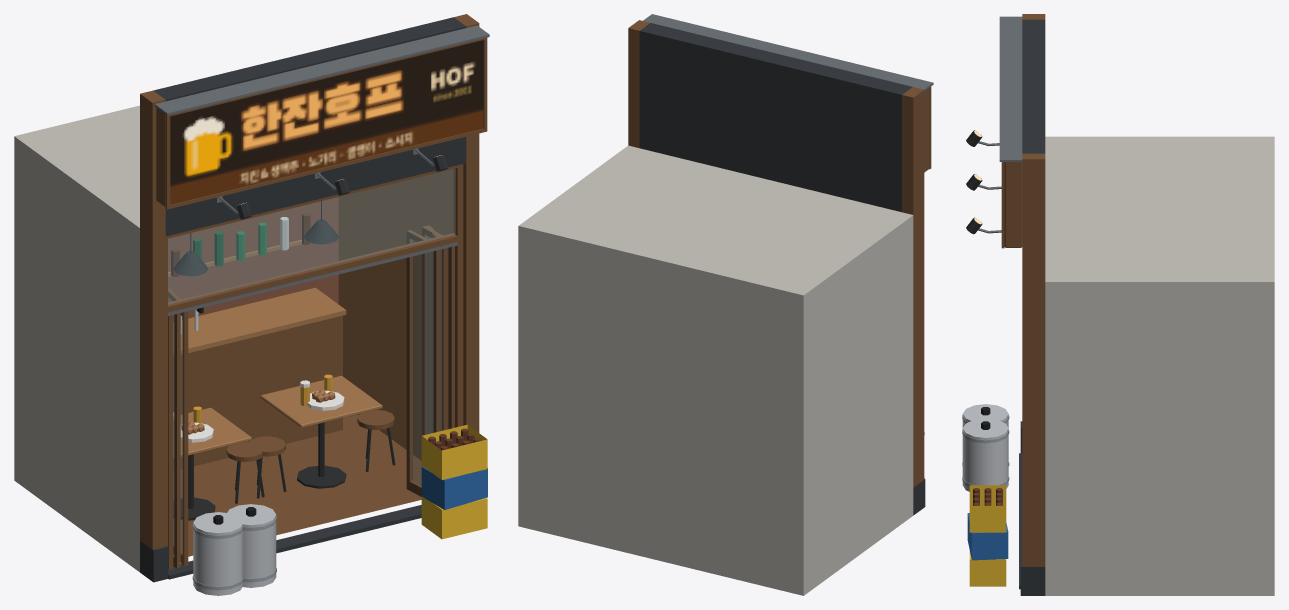
File: SC_Shop_Hof.gltf
The picture shows the model from 3 angles, left to right: view 1: azimuth 30°, elevation 25°; view 2: azimuth 150°, elevation 25°; view 3: azimuth 270°, elevation 25°; orthographic projection. The views are drawn at different scales.
Visible parts, largest first — view 1: SC_Shop_Hof; view 2: SC_Shop_Hof; view 3: SC_Shop_Hof.
Part boxes in pixels (<box>): SC_Shop_Hof: <box>14,14,489,595</box>; SC_Shop_Hof: <box>518,14,933,595</box>; SC_Shop_Hof: <box>962,14,1274,595</box>.
Bounding box in the file's own units: 3 × 4.2 × 2.73.
4 materials, 4 textured.
